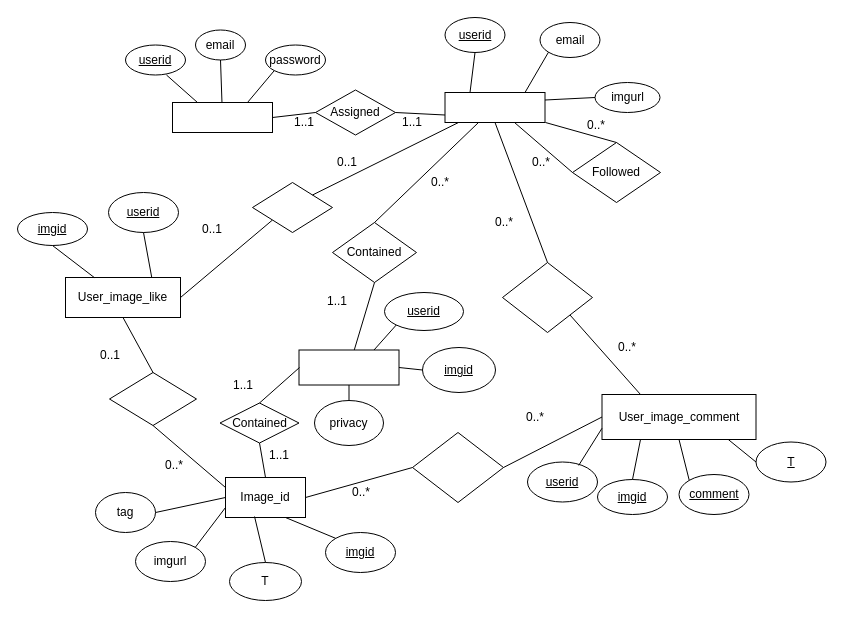
The diagram is 844 pixels wide and 618 high, and some of its shapes have lost their labels. The centre of each missing label's shape, as x and y in pixels:
"Account" goes at point (222, 117).
"Commented" goes at point (458, 467).
"Commenting" goes at point (547, 297).
"Liked" goes at point (152, 399).
"Liking" goes at point (292, 207).
"Profile" goes at point (494, 107).
"User_image_id" goes at point (348, 367).
